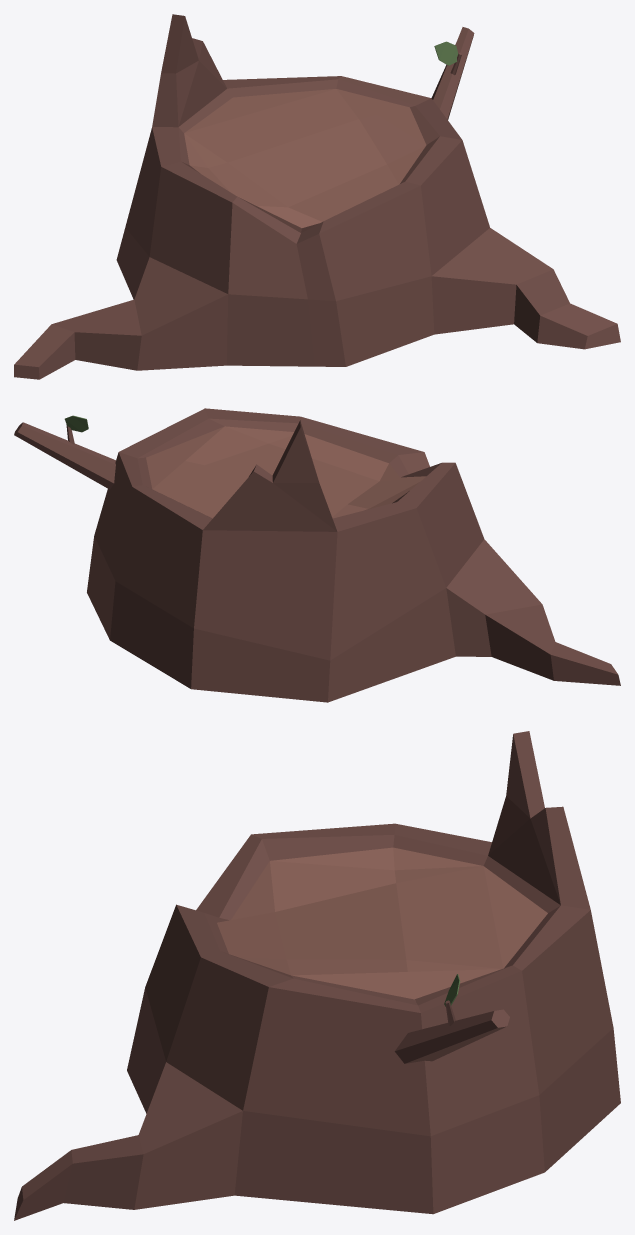
File: Blends_TreeStump.glb
The picture shows the model from 3 angles, top to bottom: view 1: azimuth 30°, elevation 25°; view 2: azimuth 150°, elevation 25°; view 3: azimuth 270°, elevation 25°; orthographic projection. The views are drawn at different scales.
Parts seen in each view (by area): view 1: TreeStump; view 2: TreeStump; view 3: TreeStump.
Part boxes in pixels (left/top/right/bottom): TreeStump: left=14, top=14, right=620, bottom=379; TreeStump: left=14, top=408, right=620, bottom=702; TreeStump: left=14, top=731, right=620, bottom=1220.
Size of the model in its own units: 1.36 by 0.6216 by 1.03.
